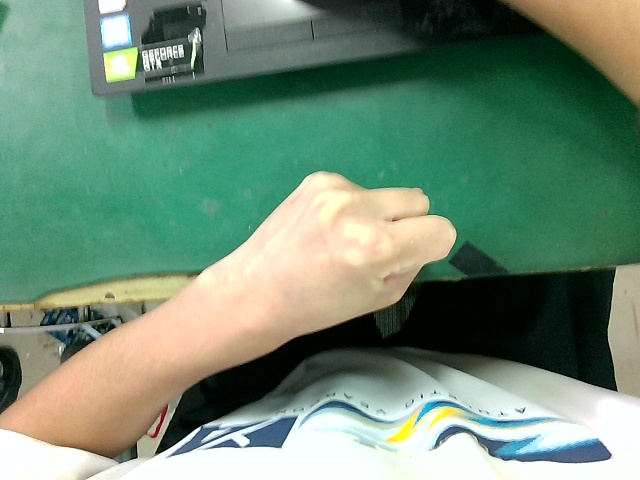stone: (214, 160, 474, 370)
